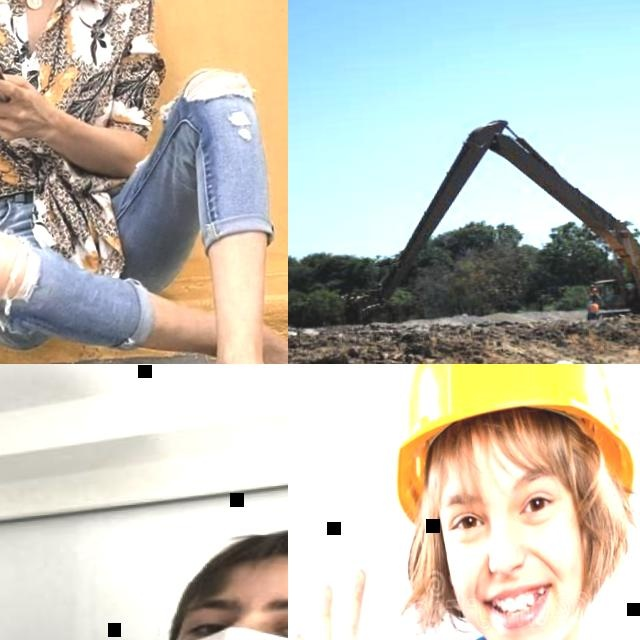Hardhat: (377, 364, 638, 516), (547, 358, 579, 364), (587, 299, 593, 302), (590, 283, 595, 286)
NO-Hardhat: (184, 515, 288, 592)
NO-Mask: (457, 568, 582, 640)
NO-Safety Vest: (0, 0, 135, 204)
Person: (0, 0, 288, 364), (288, 364, 640, 640), (0, 499, 288, 640), (585, 298, 599, 320), (587, 282, 601, 303)
Safety Vest: (589, 302, 599, 312), (587, 286, 597, 294)
machinery: (324, 101, 640, 334)
